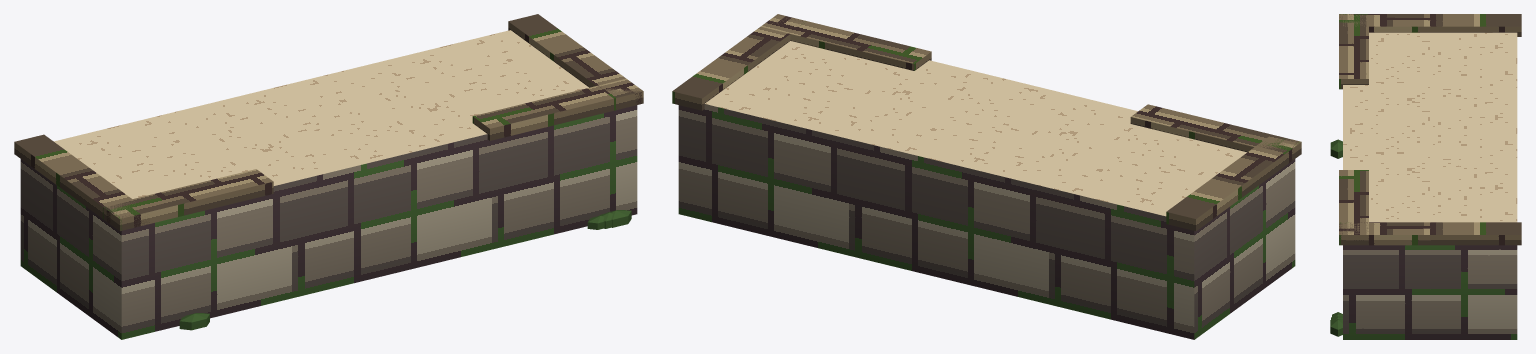
File: scene_plat_o9.glb
The picture shows the model from 3 angles, left to right: view 1: azimuth 30°, elevation 25°; view 2: azimuth 150°, elevation 25°; view 3: azimuth 270°, elevation 25°; orthographic projection. The views are drawn at different scales.
Parts seen in each view (by area): view 1: scene_plat_o9; view 2: scene_plat_o9; view 3: scene_plat_o9.
Boxes of the visible parts, <box> form: scene_plat_o9: <box>14,14,643,339</box>; scene_plat_o9: <box>672,14,1301,339</box>; scene_plat_o9: <box>1330,14,1521,339</box>.
Size of the model in its own units: 6.3 by 1.47 by 2.3.
3 materials, 2 textured.
